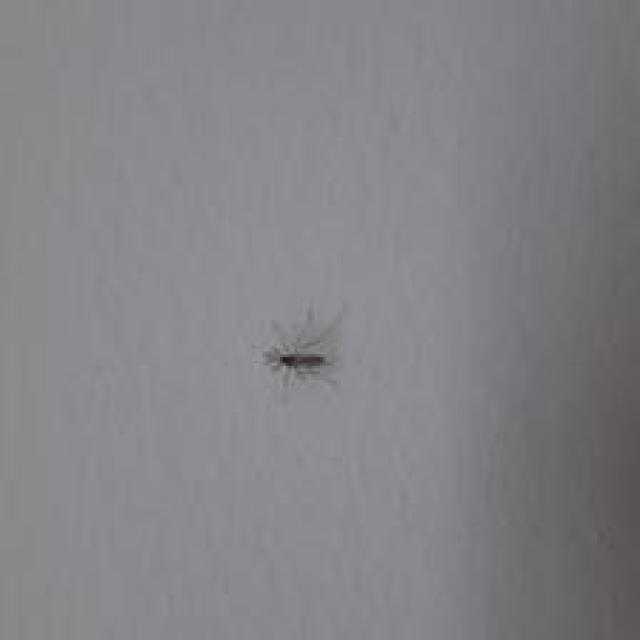Culex: (259, 300, 347, 391)
